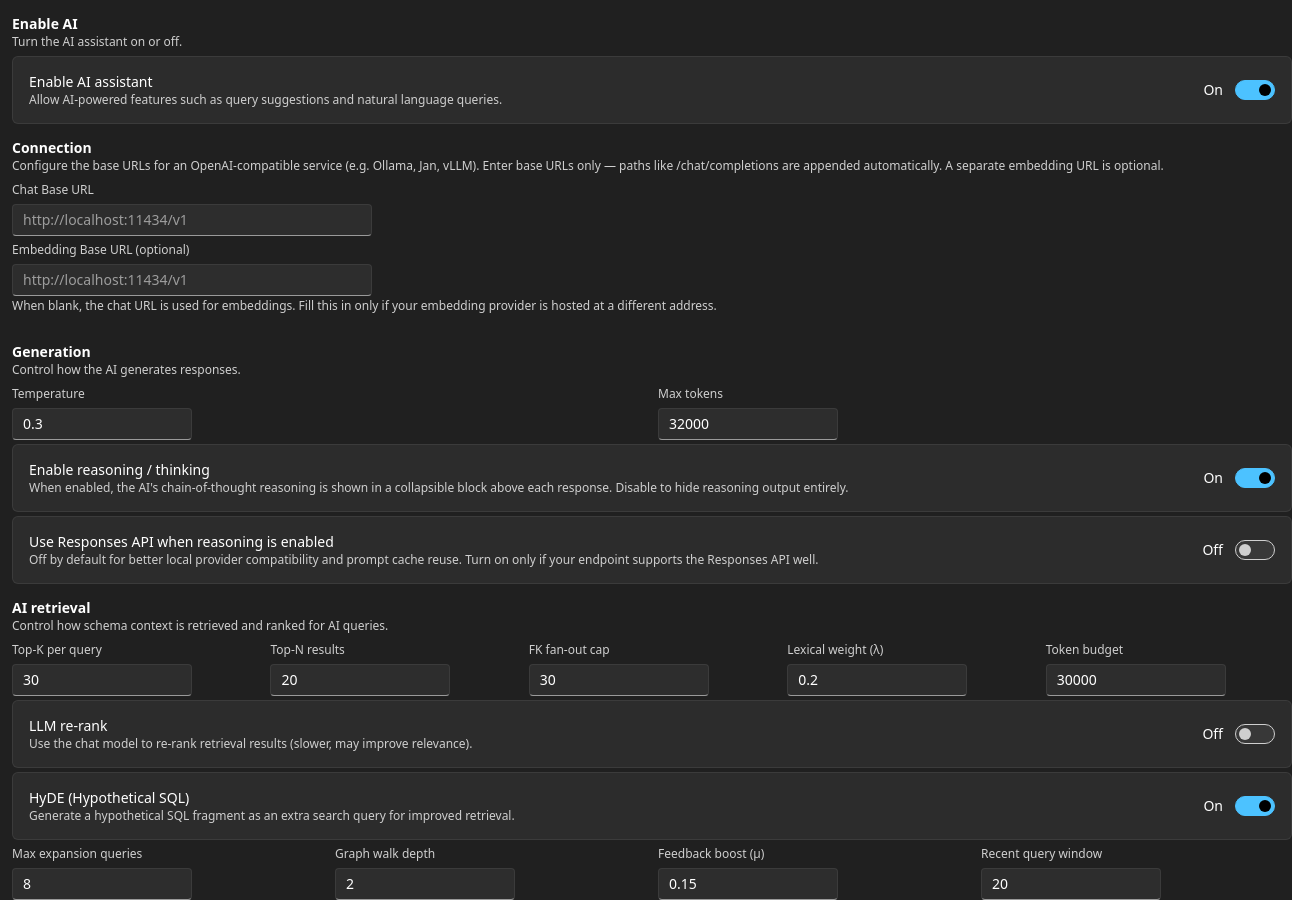
AiSettings › toggling AI off disables the other fields
The width and height of the screenshot is (1292, 900).
Check: the field with test id "settings-ai-endpoint" is enabled, box [12,204,372,236]
Click the switch labelled "Enable AI assistant" at (1255, 90), box [1235,80,1275,100]
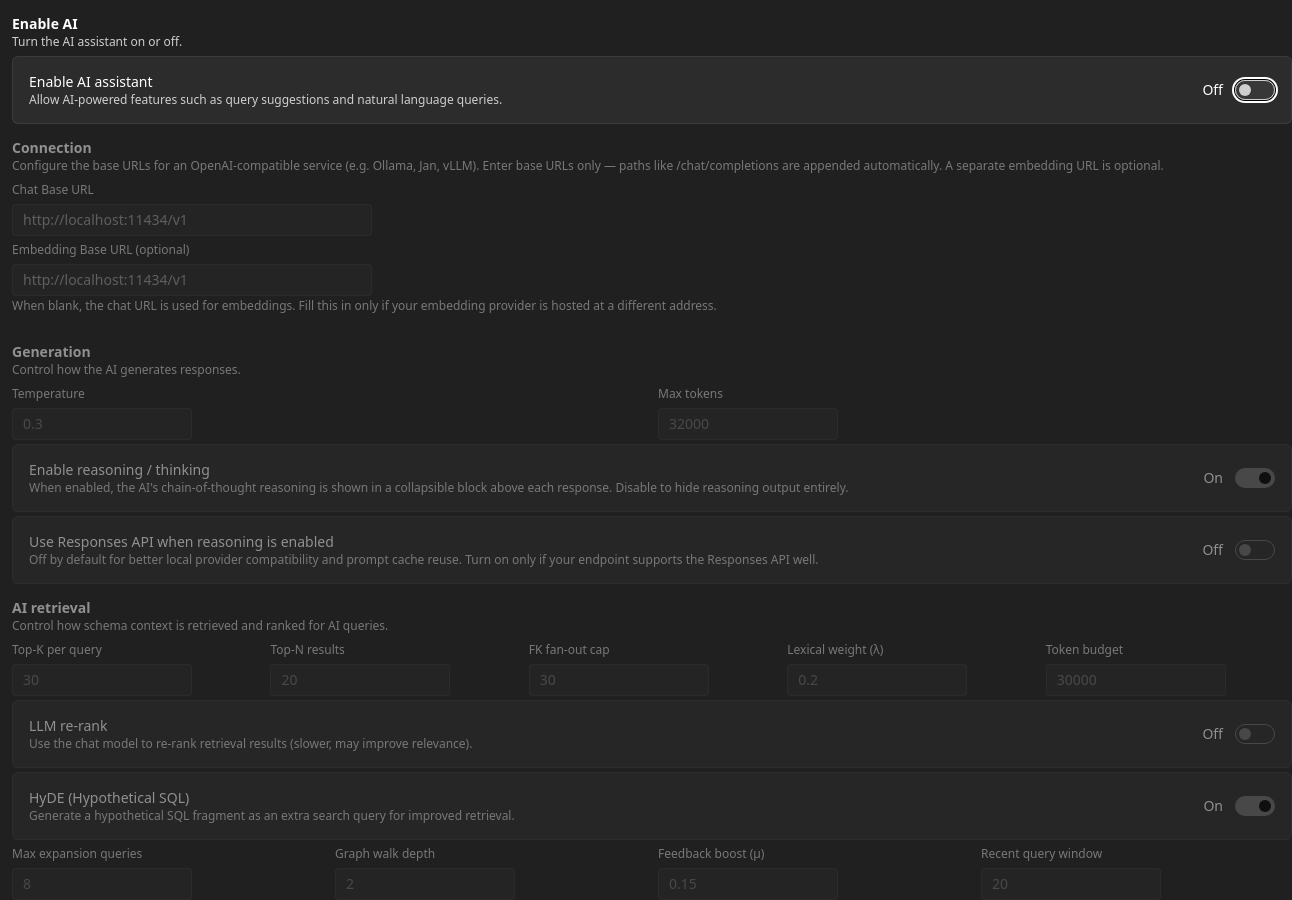
Check: the field with test id "settings-ai-endpoint" is disabled, box [12,204,372,236]
